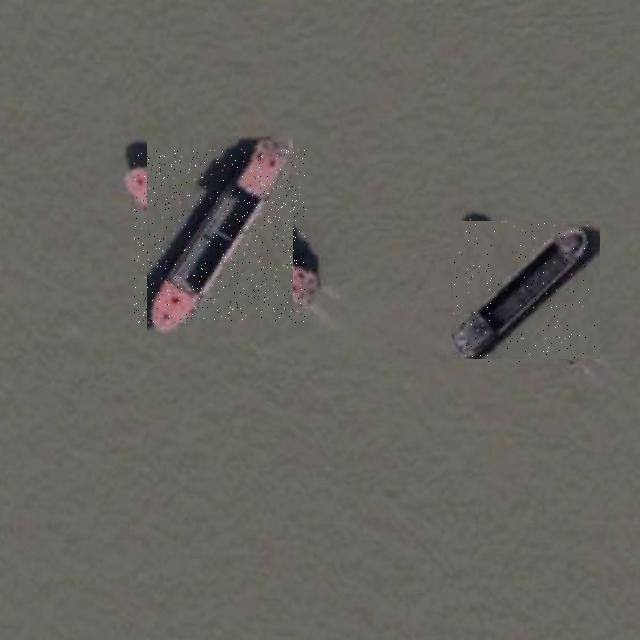boat: (134, 149, 307, 323), (453, 218, 598, 362)
